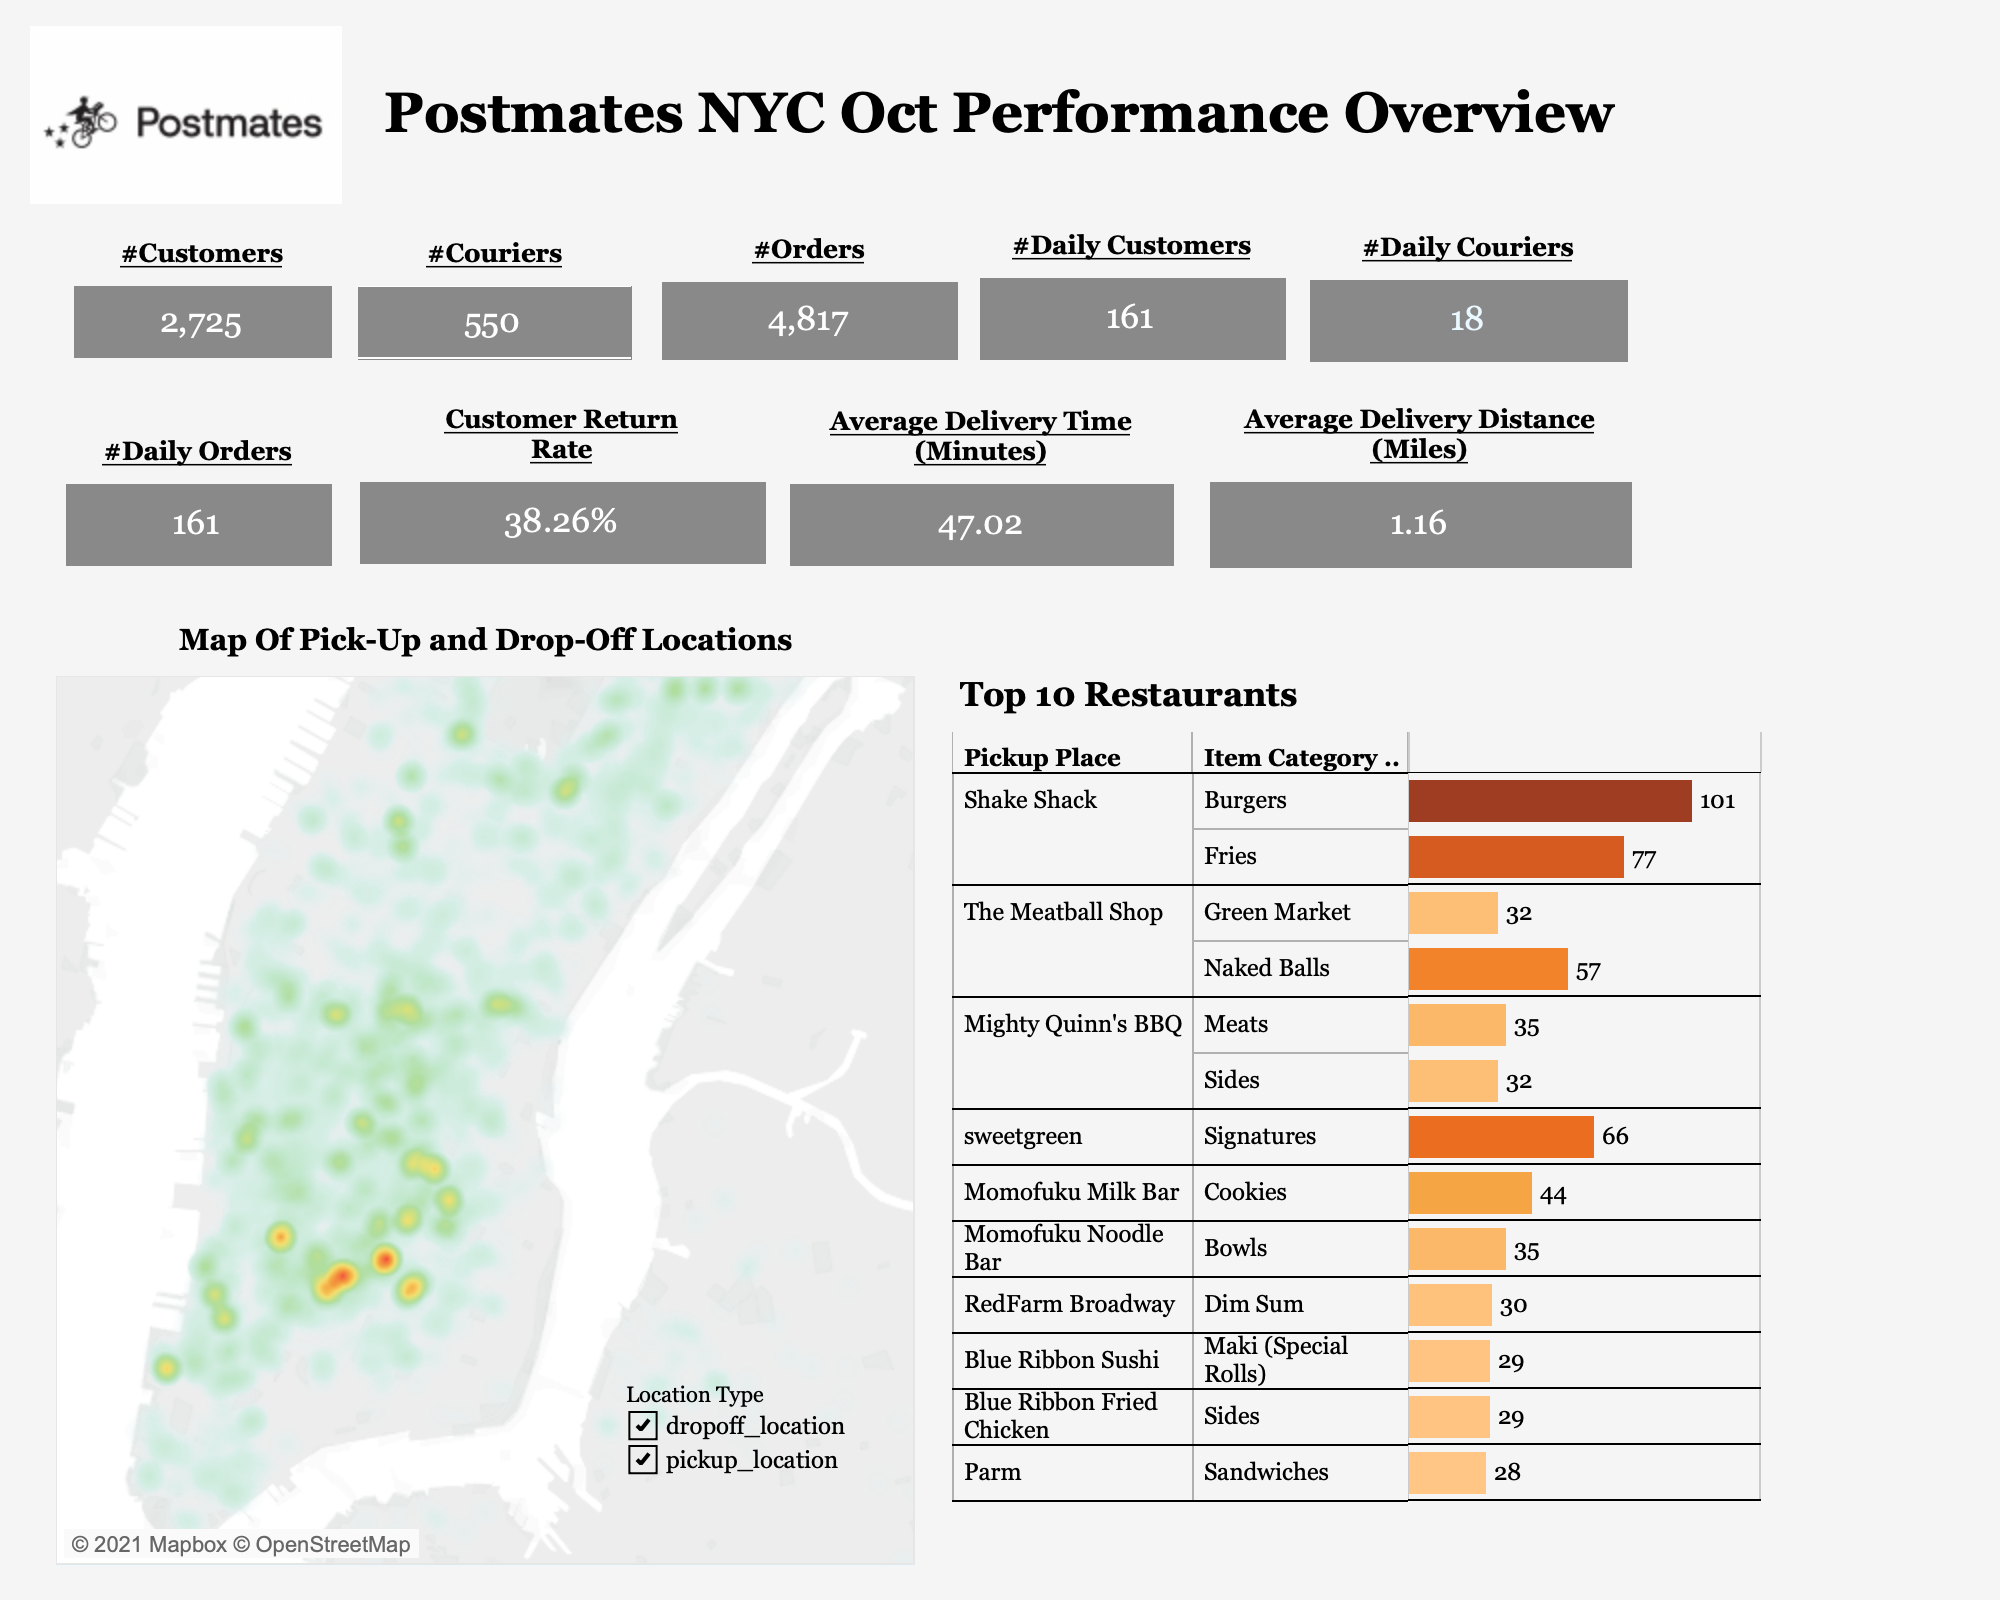

The dashboard page shown, as its layout file describes it:
{"tool":"tableau","page":{"name":"Dashboard 1","canvas":[1000,800],"ordinal":3},"visuals":[{"type":"worksheet","box":[0,0,1000,800]},{"type":"worksheet","param":"vert","box":[8,8,984,784]},{"type":"worksheet","box":[8,8,984,96]},{"type":"worksheet","param":"Image/Screen Shot 2021-05-24 at 4.49.31 PM.png","box":[15,13,160,89]},{"type":"worksheet","param":"vert","box":[8,104,984,688]},{"type":"worksheet","box":[8,104,984,688]},{"type":"worksheet","box":[8,104,984,688]},{"type":"worksheet","title":"daily cutomers","mark":"Automatic","box":[490,109,152,70]},{"type":"worksheet","title":"daily couriers","mark":"Automatic","box":[655,110,158,70]},{"type":"worksheet","title":"number of orders","mark":"Automatic","box":[331,111,147,68]},{"type":"worksheet","title":"number of customers","mark":"Automatic","box":[37,113,128,65]},{"type":"worksheet","title":"number of courier","mark":"Automatic","box":[179,113,137,67]},{"type":"worksheet","title":"customer retention rate","mark":"Automatic","box":[180,196,202,85]},{"type":"worksheet","title":"average dilivery distance","mark":"Automatic","box":[605,196,210,87]},{"type":"worksheet","title":"average delivery time","mark":"Automatic","box":[395,197,191,85]},{"type":"worksheet","title":"daily orders","mark":"Automatic","box":[33,212,132,70]},{"type":"worksheet","title":"dropoff map","mark":"Heatmap","rows":["latitude"],"cols":["longitude"],"box":[28,305,430,478]},{"type":"worksheet","title":"Top 10 restaurants","mark":"Automatic","rows":["pickup_place","item_category_name"],"cols":["delivery_id"],"box":[476,331,406,434]},{"type":"worksheet","title":"dropoff map","mark":"Heatmap","rows":["latitude"],"cols":["longitude"],"param":"[federated.1wnfsdp1bigodh13j7aud0aobtgx].[none:location_type:nk]","box":[313,690,139,74]}]}

Visuals, with their boxes in screenshot pixels (x1, y1, x2, y2), scaled from the page's 1000x800 canvas onto the 2000x1600 screenshot:
worksheet: (0,0,1999,1599)
worksheet: (16,16,1984,1584)
worksheet: (16,16,1984,208)
worksheet: (30,26,350,204)
worksheet: (16,208,1984,1584)
worksheet: (16,208,1984,1584)
worksheet: (16,208,1984,1584)
"daily cutomers" worksheet: (980,218,1284,358)
"daily couriers" worksheet: (1310,220,1626,360)
"number of orders" worksheet: (662,222,956,358)
"number of customers" worksheet: (74,226,330,356)
"number of courier" worksheet: (358,226,632,360)
"customer retention rate" worksheet: (360,392,764,562)
"average dilivery distance" worksheet: (1210,392,1630,566)
"average delivery time" worksheet: (790,394,1172,564)
"daily orders" worksheet: (66,424,330,564)
"dropoff map" worksheet (Heatmap marks): (56,610,916,1566)
"Top 10 restaurants" worksheet: (952,662,1764,1530)
"dropoff map" worksheet (Heatmap marks): (626,1380,904,1528)
